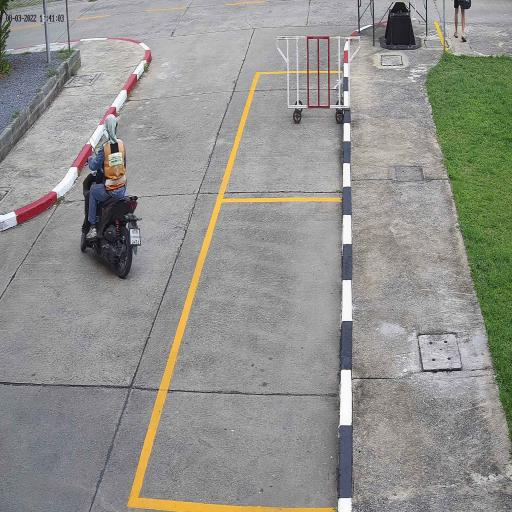motorcycle: (79, 171, 143, 280)
